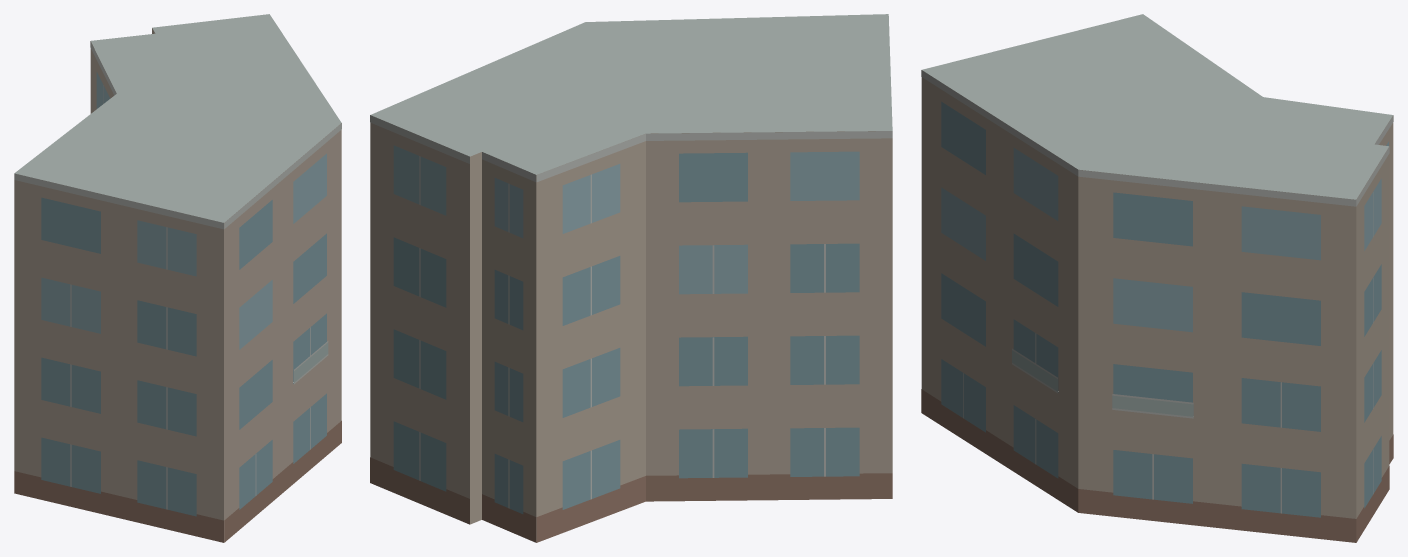
Rendered from survey-upis-32719658.glb.
3 renders of one model, left to right at view 1: azimuth 30°, elevation 25°; view 2: azimuth 150°, elevation 25°; view 3: azimuth 270°, elevation 25°, orthographic. The views are drawn at different scales.
Visible parts, largest first — view 1: survey-upis-32719658.tmp; view 2: survey-upis-32719658.tmp; view 3: survey-upis-32719658.tmp.
Part boxes in pixels (x1,y1,x2,y2): survey-upis-32719658.tmp: (14,14,341,542); survey-upis-32719658.tmp: (370,14,892,542); survey-upis-32719658.tmp: (921,14,1393,542).
Size of the model in its own units: 13.88 by 11.95 by 14.9.
